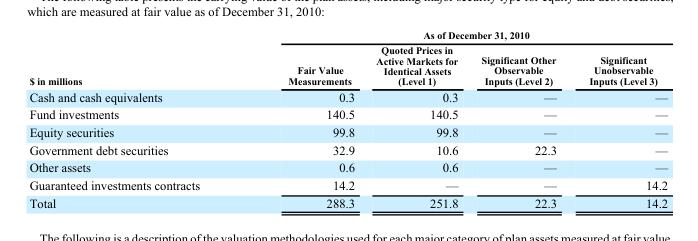table: (28, 29, 667, 209)
table column: (28, 29, 243, 209), (243, 29, 364, 209), (364, 29, 469, 209), (469, 29, 572, 209), (572, 29, 667, 209)
table column header: (28, 29, 667, 87)
table row: (28, 42, 667, 87), (28, 87, 667, 105), (28, 105, 667, 123), (28, 140, 667, 158), (28, 158, 667, 176), (28, 123, 667, 140), (28, 176, 667, 193), (28, 193, 667, 209), (28, 29, 667, 42)
table spanning cell: (28, 29, 243, 87), (243, 29, 667, 42)
